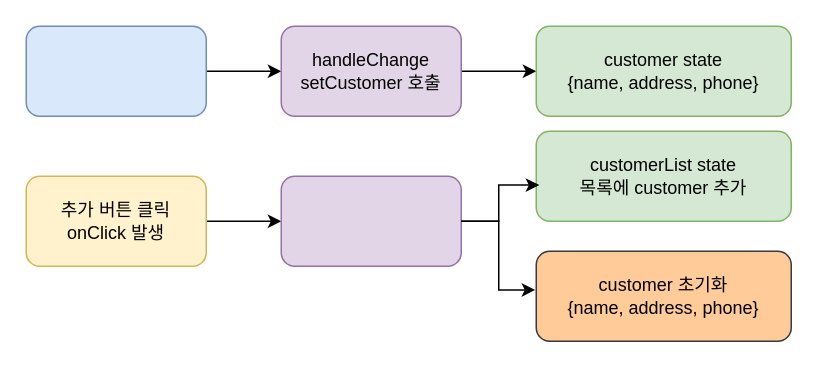
Image size: 818x368. Some labels were removed from this diagram. The shapes that lost their labels are listed below. From the top down, each one's box as (x1, y1, x2, y2) in pixels, then its label:
(25, 25, 206, 116): Input 타이핑 onChange 발생
(280, 175, 461, 266): handleCommit 두 state 모두 변경
